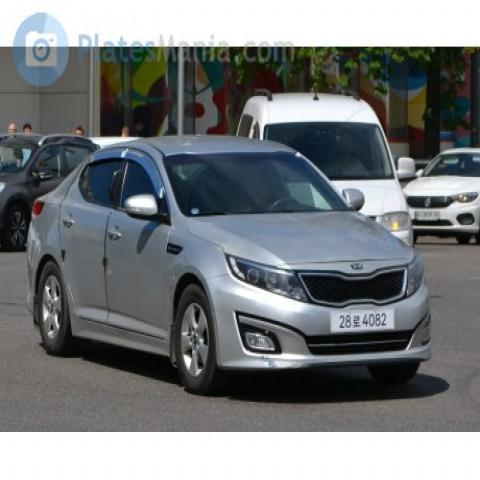LP: (329, 304, 399, 336)
